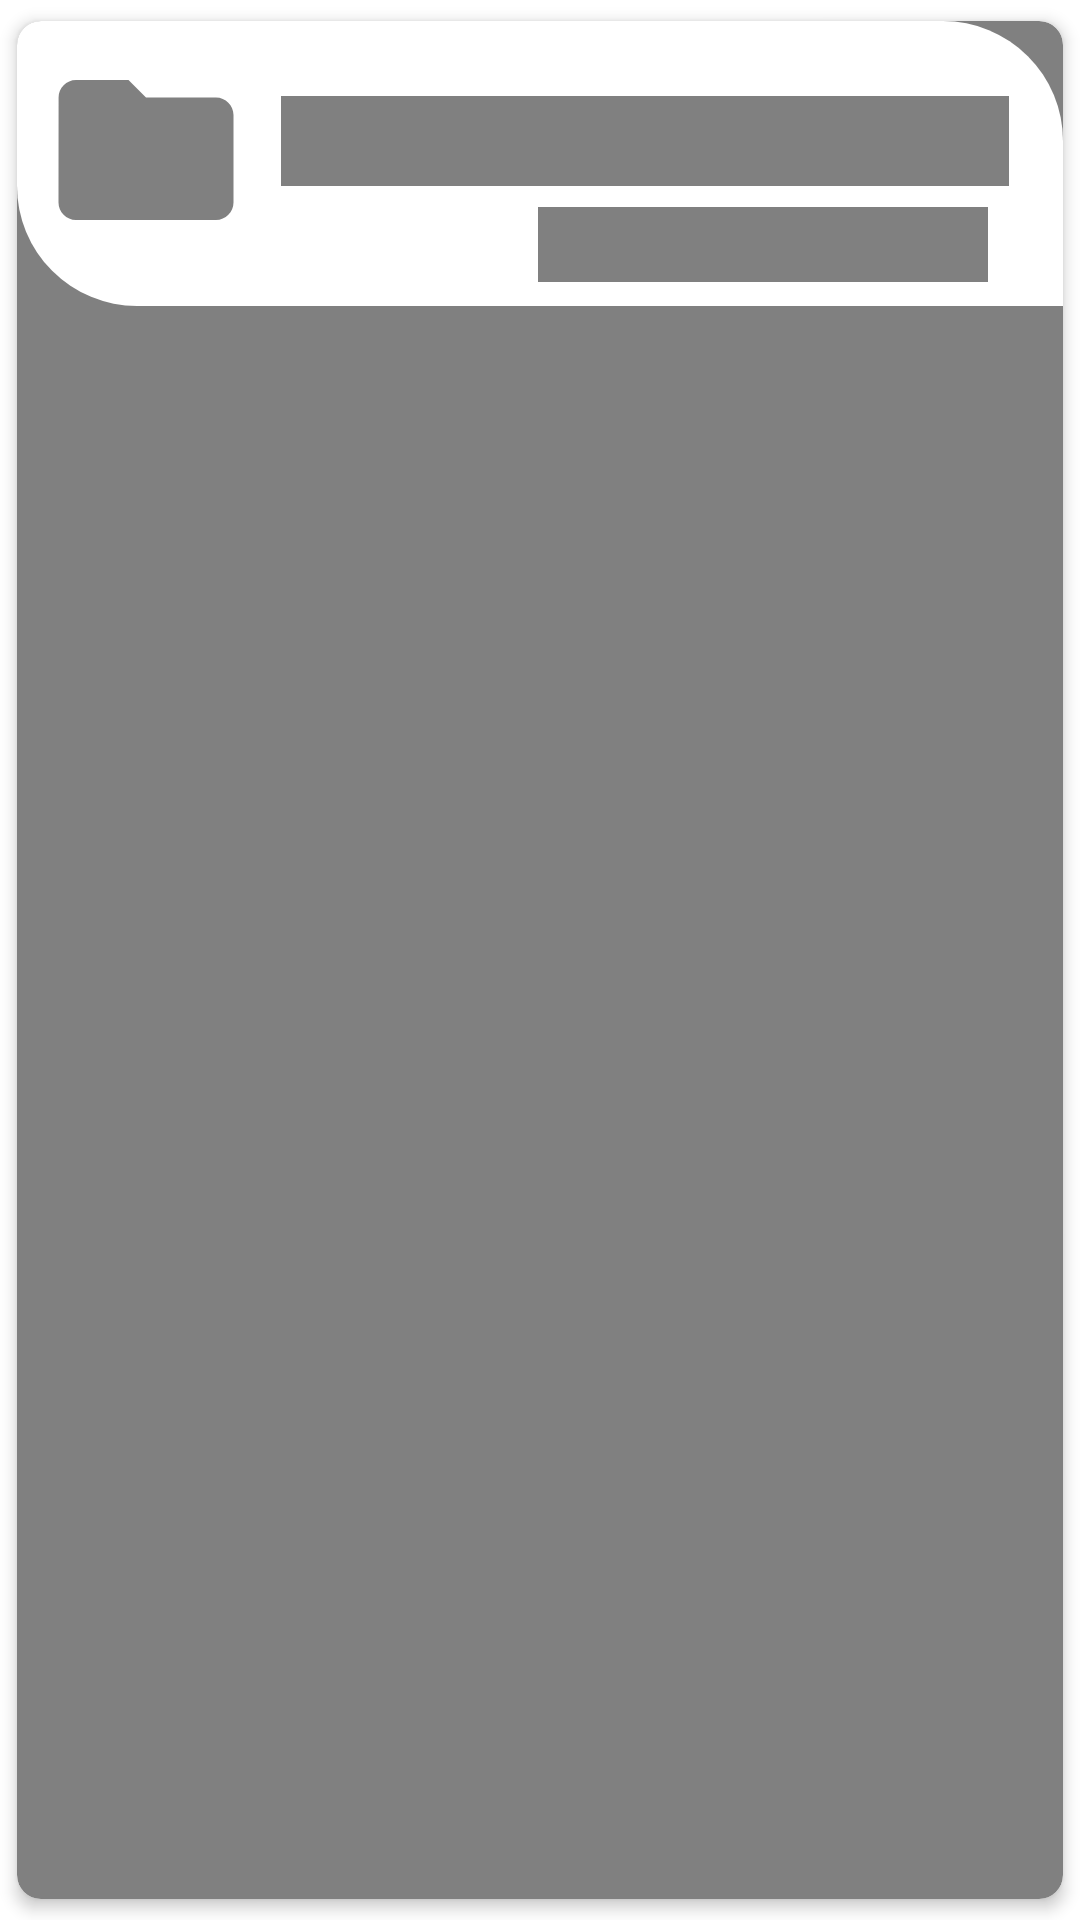

Locate icon controls on the screen. Image size 1080px×1920px, boxes as Rect(x1, y1, x2, y2).
folder name: Rect(58, 80, 234, 220)
